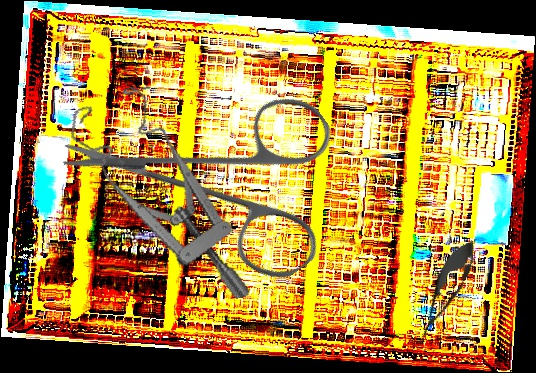Iris Scissors: (55, 13, 388, 345)
Micro Scissor: (407, 233, 484, 350)
Speculum: (63, 70, 252, 329)
